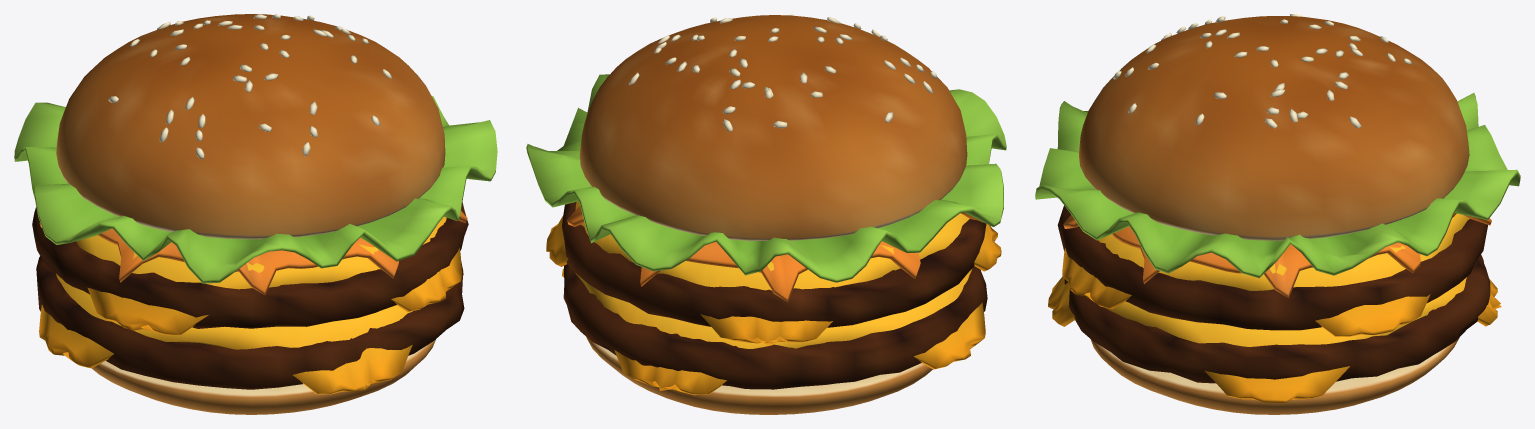
File: double-burger.glb
3 renders of one model, left to right at view 1: azimuth 30°, elevation 25°; view 2: azimuth 150°, elevation 25°; view 3: azimuth 270°, elevation 25°, orthographic.
Visible parts, largest first — view 1: double-burger; view 2: double-burger; view 3: double-burger.
Part boxes in pixels (box(x1,y1,x2,y2)): double-burger: box(14, 14, 497, 414); double-burger: box(526, 14, 1006, 414); double-burger: box(1035, 14, 1520, 414).
Bounding box in the file's own units: 0.1498 × 0.1127 × 0.1504.
